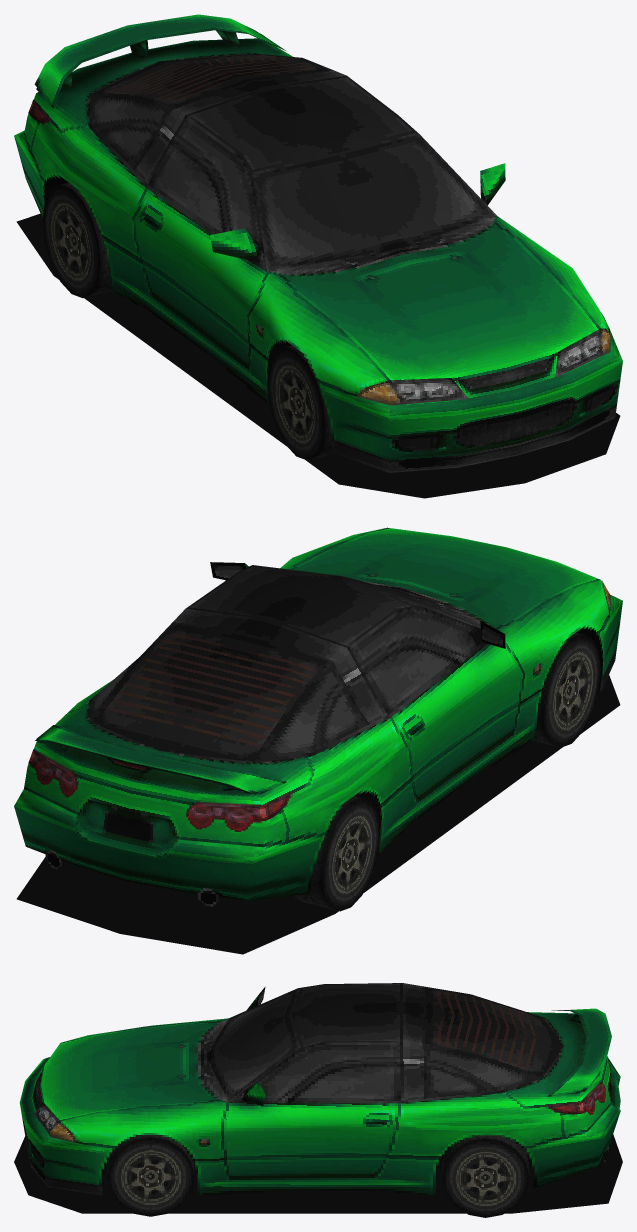
Rendered from car.gltf.
3 views of the same model, one above another, from view 1: azimuth 30°, elevation 25°; view 2: azimuth 150°, elevation 25°; view 3: azimuth 270°, elevation 25° (orthographic). The views are drawn at different scales.
Visible parts, largest first — view 1: BX300, Shadow, Wheel_RR, Wheel_FR; view 2: BX300, Shadow, Wheel_RR, Wheel_FR; view 3: BX300, Shadow, Wheel_RL, Wheel_FL.
Boxes of the visible parts, box(x1,y1,x2,y2) form: BX300: box(14, 14, 622, 472); Shadow: box(16, 213, 620, 498); Wheel_RR: box(42, 182, 112, 298); Wheel_FR: box(267, 345, 334, 459); BX300: box(14, 527, 622, 906); Shadow: box(16, 675, 620, 954); Wheel_RR: box(291, 796, 380, 911); Wheel_FR: box(532, 632, 600, 746); BX300: box(19, 983, 620, 1195); Shadow: box(14, 1134, 622, 1213); Wheel_RL: box(442, 1135, 529, 1217); Wheel_FL: box(107, 1134, 194, 1216).
Size of the model in its own units: 1.91 by 1.32 by 4.54.
Materials: 1 (1 with a texture image).
